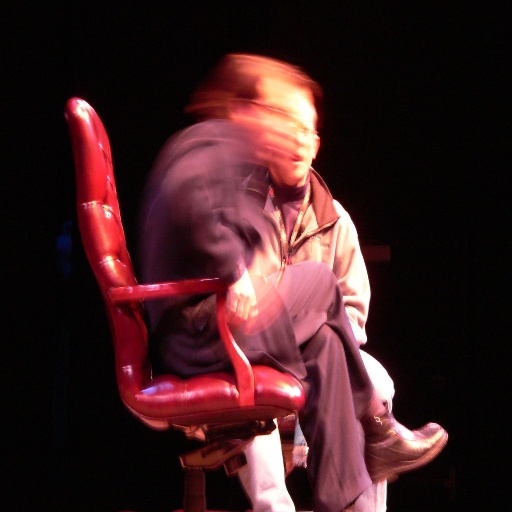hand: (225, 268, 257, 337), (243, 157, 269, 212)
